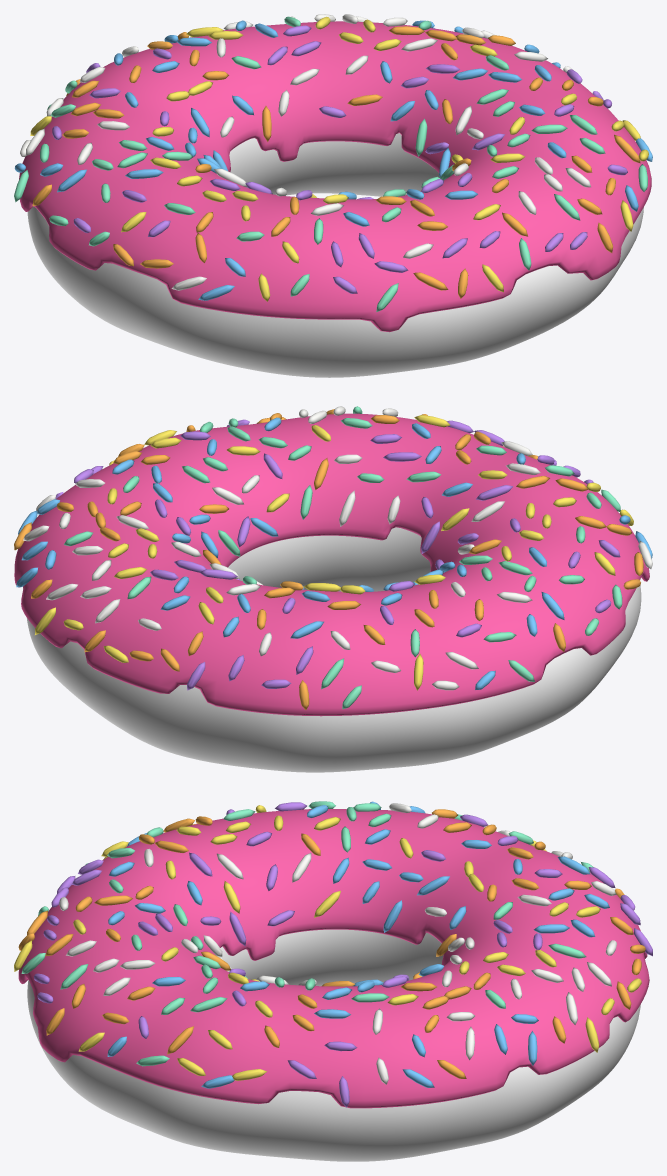
The model's file is pink_donut_sprinkles_v001.glb.
3 renders of one model, top to bottom at view 1: azimuth 30°, elevation 25°; view 2: azimuth 150°, elevation 25°; view 3: azimuth 270°, elevation 25°, orthographic.
Visible parts, largest first — view 1: donut_icing, donut_sprinkles, donut_body; view 2: donut_icing, donut_sprinkles, donut_body; view 3: donut_icing, donut_sprinkles, donut_body.
Boxes of the visible parts, x1,y1,x2,y2 form: donut_icing: (19, 21, 651, 332); donut_sprinkles: (14, 14, 652, 311); donut_body: (27, 133, 643, 377); donut_icing: (14, 413, 649, 716); donut_sprinkles: (14, 406, 652, 709); donut_body: (27, 527, 641, 772); donut_icing: (18, 809, 649, 1108); donut_sprinkles: (14, 801, 652, 1107); donut_body: (27, 929, 640, 1161).
Bounding box in the file's own units: 0.096 × 0.028 × 0.0962.
